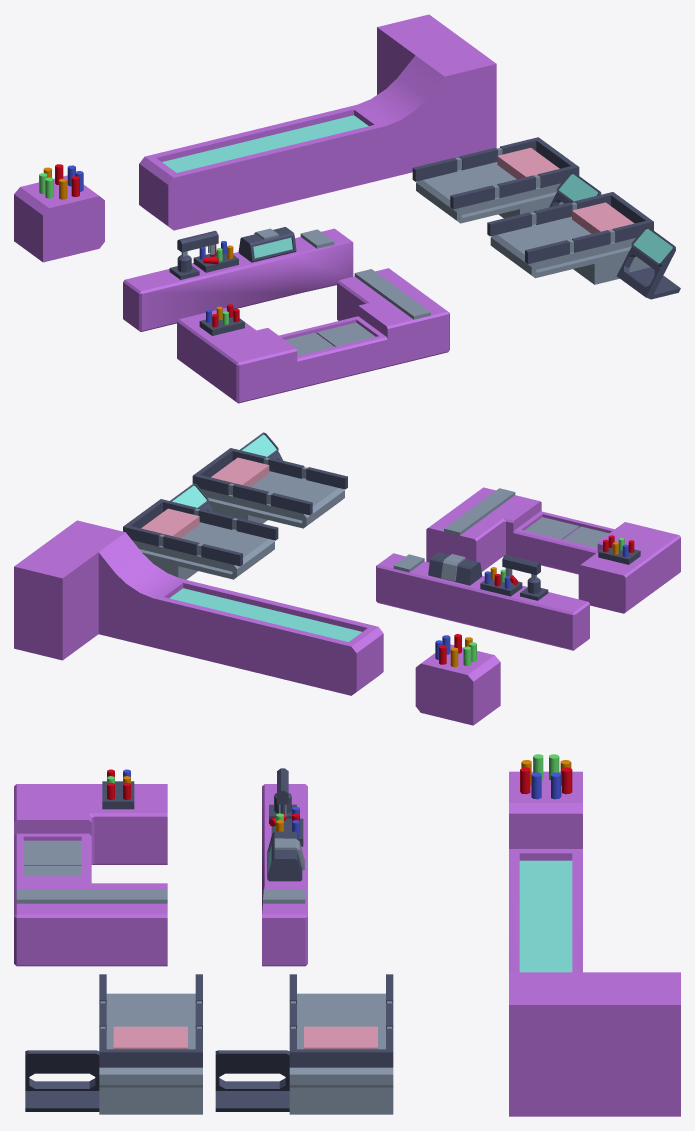
The model's file is Revised_Memory_Store_Platform.fbx.
3 views of the same model, one above another, from view 1: azimuth 30°, elevation 25°; view 2: azimuth 150°, elevation 25°; view 3: azimuth 270°, elevation 25° (orthographic). The views are drawn at different scales.
Visible parts, largest first — view 1: Cube.017, Cube.016, Cube.014, Cube.024, Cube.015, Cube.026, Cube.020, Cube.025, Cube.018, Cube.122, Cube.028, Cube.023 (+3 smaller); view 2: Cube.017, Cube.016, Cube.024, Cube.014, Cube.018, Cube.025, Cube.026, Cube.020, Cube.122, Cube.023, Cube.028, Cylinder.001 (+5 smaller); view 3: Cube.017, Cube.016, Cube.014, Cube.024, Cube.015, Cube.078, Cube.023, Cube.028, Cylinder.001, Cube.122, Cube.021, Cube.027 (+5 smaller).
Part boxes in pixels (bbox=[...]): Cube.017: bbox=[14, 14, 496, 262]; Cube.016: bbox=[123, 228, 449, 403]; Cube.014: bbox=[490, 216, 650, 284]; Cube.024: bbox=[416, 162, 563, 223]; Cube.015: bbox=[617, 226, 680, 299]; Cube.026: bbox=[450, 165, 579, 209]; Cube.020: bbox=[525, 219, 653, 263]; Cube.025: bbox=[412, 137, 540, 181]; Cube.018: bbox=[487, 192, 615, 236]; Cube.122: bbox=[238, 227, 296, 262]; Cube.028: bbox=[497, 148, 559, 179]; Cube.023: bbox=[572, 202, 634, 233]; Cube.017: bbox=[14, 520, 500, 725]; Cube.016: bbox=[376, 487, 680, 650]; Cube.024: bbox=[132, 522, 274, 579]; Cube.014: bbox=[200, 471, 344, 528]; Cube.018: bbox=[192, 474, 312, 515]; Cube.025: bbox=[123, 525, 242, 566]; Cube.026: bbox=[158, 499, 278, 540]; Cube.020: bbox=[228, 448, 347, 489]; Cube.122: bbox=[428, 552, 482, 585]; Cube.023: bbox=[211, 457, 269, 486]; Cube.028: bbox=[141, 508, 199, 538]; Cylinder.001: bbox=[435, 634, 476, 667]; Cube.017: bbox=[509, 771, 680, 1116]; Cube.016: bbox=[14, 784, 307, 966]; Cube.014: bbox=[99, 993, 202, 1114]; Cube.024: bbox=[289, 993, 393, 1114]; Cube.015: bbox=[25, 1050, 99, 1111]; Cube.078: bbox=[215, 1050, 289, 1111]; Cube.023: bbox=[113, 1026, 187, 1049]; Cube.028: bbox=[304, 1026, 377, 1049]; Cylinder.001: bbox=[520, 754, 572, 799]; Cube.122: bbox=[267, 831, 304, 881]; Cube.021: bbox=[106, 1049, 195, 1067]; Cube.027: bbox=[297, 1049, 385, 1067].
Bounding box in the file's own units: 900 × 167 × 900.
